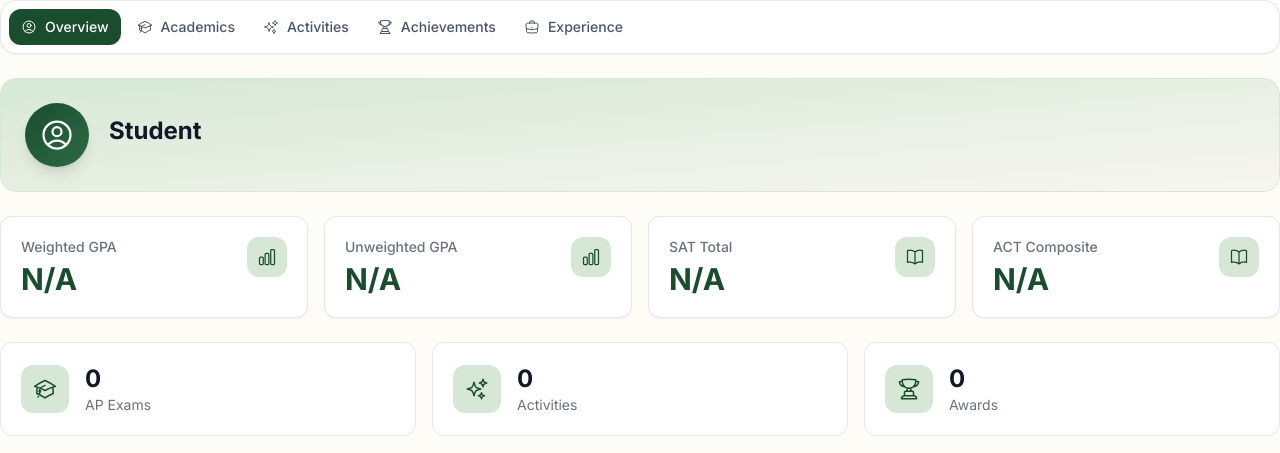
Test: ProfileViewCard — defensive rendering › handles a totally empty profile without crashing
Click the button "Academics" at (186, 27), box [124, 9, 247, 45]
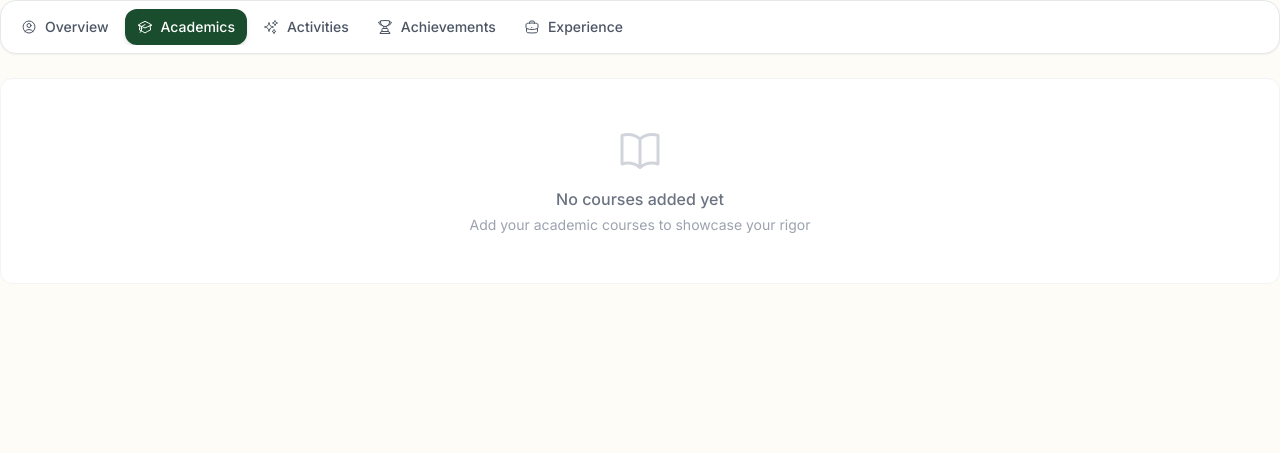
Expected: the text "No courses added yet" is shown, [556, 189, 724, 209]
